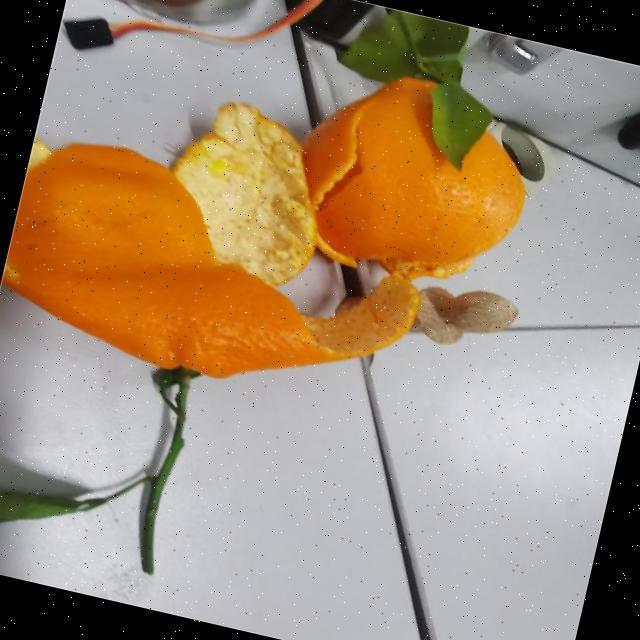orange-peel: (0, 124, 439, 421), (276, 53, 546, 300)
